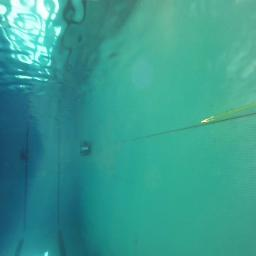Full: (80, 142, 92, 154)
